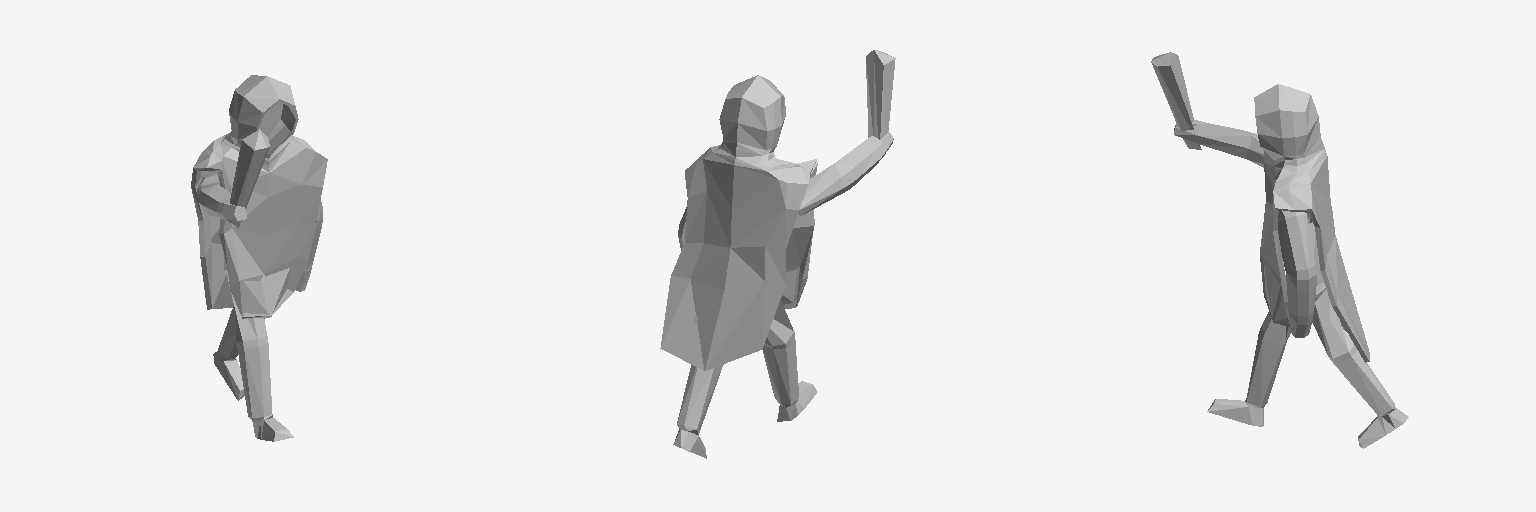
Rendered from Dude_Walk1.obj.
3 views of the same model, side by side, from view 1: azimuth 30°, elevation 25°; view 2: azimuth 150°, elevation 25°; view 3: azimuth 270°, elevation 25° (orthographic).
Visible parts, largest first — view 1: Dude.HOOD_Cube.001, Dude.BOD_Cube, Cube_Cube.002; view 2: Dude.HOOD_Cube.001, Dude.BOD_Cube, Cube_Cube.002; view 3: Dude.BOD_Cube, Dude.HOOD_Cube.001, Cube_Cube.002.
Boxes of the visible parts, box(x1,y1,x2,y2) form: Dude.HOOD_Cube.001: box(191, 75, 327, 318); Dude.BOD_Cube: box(197, 174, 322, 441); Cube_Cube.002: box(227, 129, 269, 227); Dude.HOOD_Cube.001: box(660, 75, 817, 370); Dude.BOD_Cube: box(673, 131, 893, 458); Cube_Cube.002: box(866, 50, 895, 155); Dude.BOD_Cube: box(1174, 120, 1408, 448); Dude.HOOD_Cube.001: box(1254, 84, 1369, 362); Cube_Cube.002: box(1151, 52, 1201, 149).
Bounding box in the file's own units: 2.59 × 5.82 × 3.81.